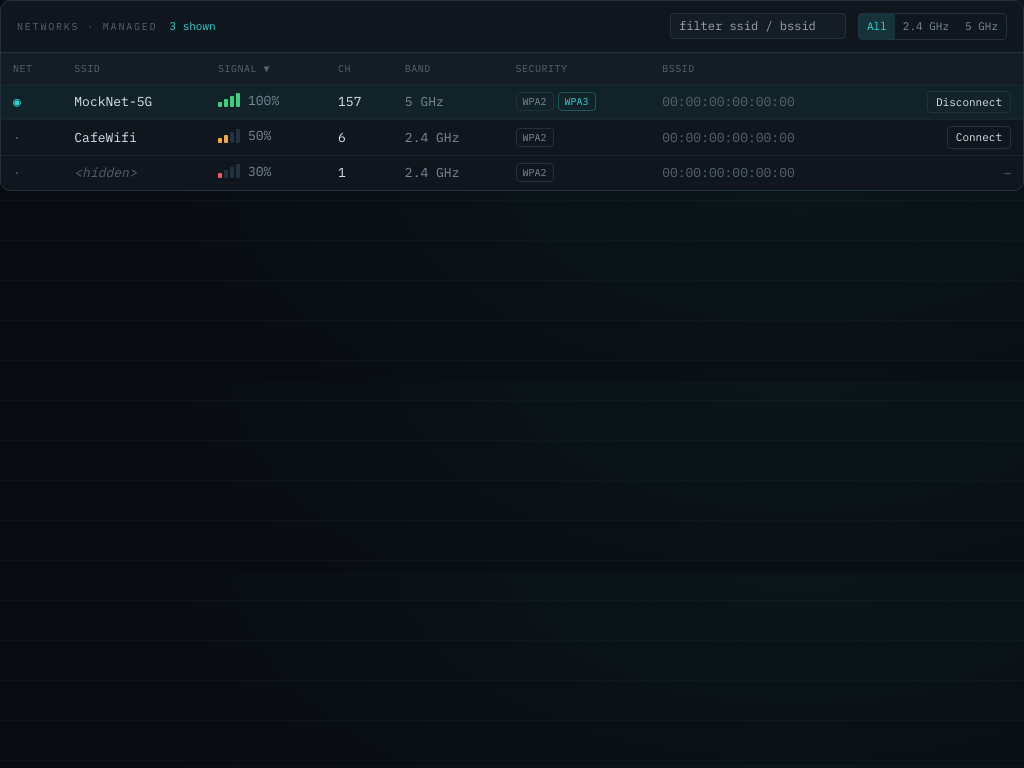
Scenario: NetworkTable › filters by band
Click the button "5 GHz" at (982, 26), box [957,14,1006,38]
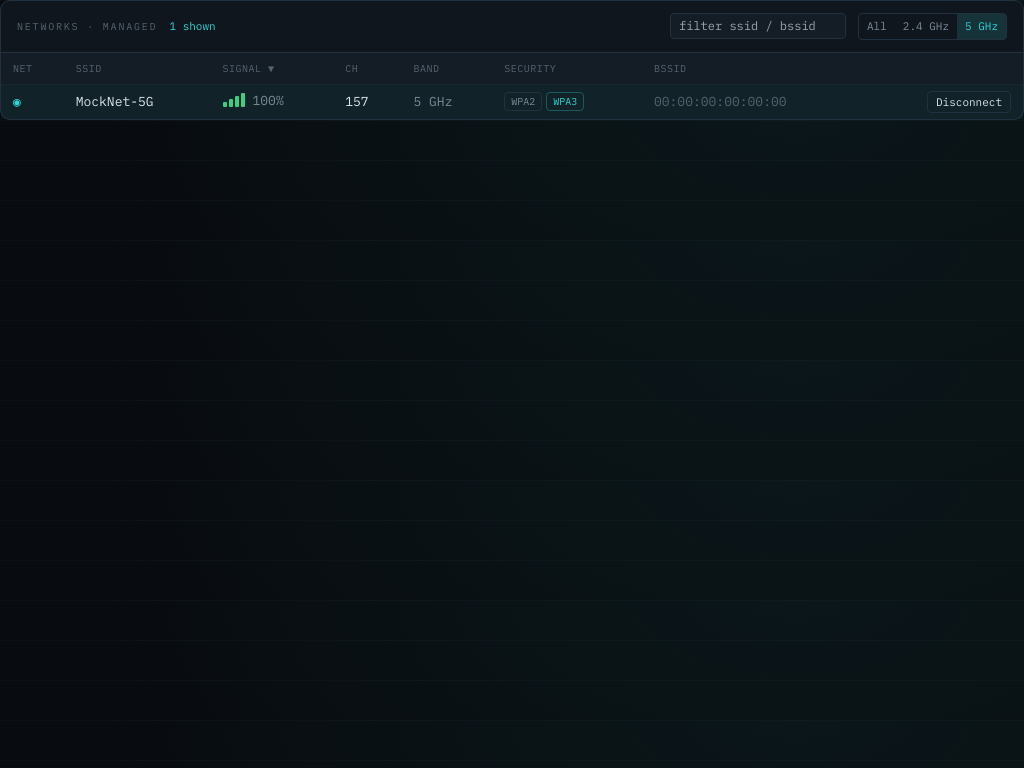
Expected: the text "MockNet-5G" is shown, [64,84,210,119]
Now the text "CafeWifi" is gone
